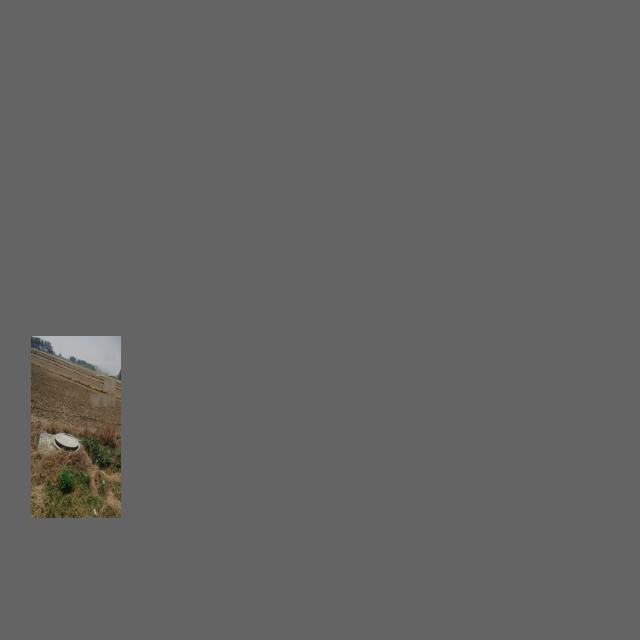uncovered: (53, 432, 81, 451)
